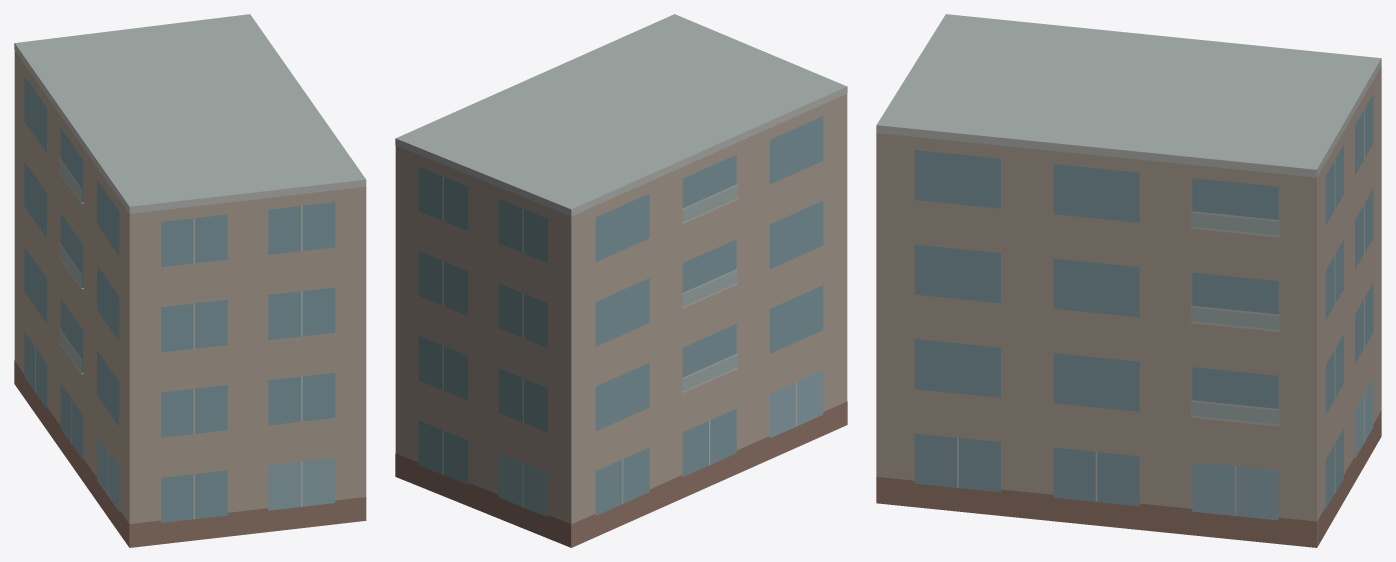
Rendered from survey-upis-33026587.glb.
3 views of the same model, side by side, from view 1: azimuth 30°, elevation 25°; view 2: azimuth 150°, elevation 25°; view 3: azimuth 270°, elevation 25° (orthographic). The views are drawn at different scales.
Parts seen in each view (by area): view 1: survey-upis-33026587.tmp; view 2: survey-upis-33026587.tmp; view 3: survey-upis-33026587.tmp.
Boxes of the visible parts, x1,y1,x2,y2 form: survey-upis-33026587.tmp: (14,14,366,547); survey-upis-33026587.tmp: (395,14,847,547); survey-upis-33026587.tmp: (876,14,1381,547).
Size of the model in its own units: 10.44 by 11.8 by 14.3.
